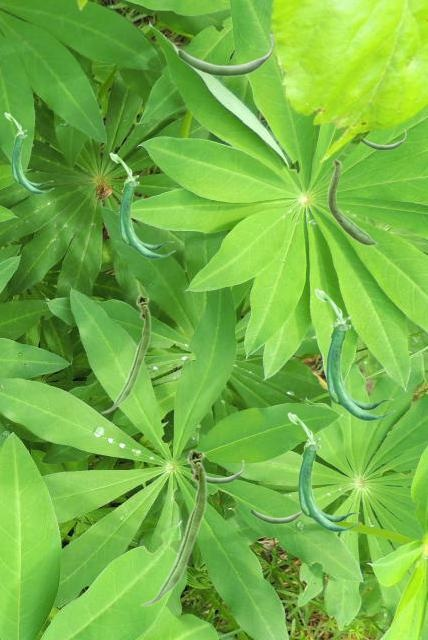french_bean: (314, 288, 394, 420), (140, 448, 206, 606), (287, 412, 360, 531), (109, 152, 174, 258), (100, 294, 150, 413), (327, 158, 377, 245), (177, 34, 273, 76), (4, 112, 53, 193), (190, 460, 243, 483), (360, 130, 405, 149), (250, 508, 301, 523)
